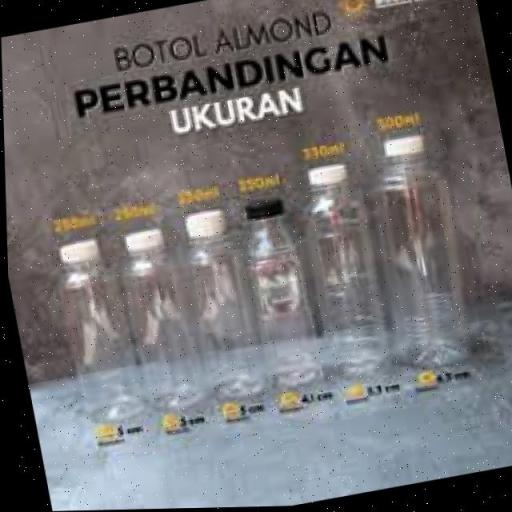plastic: (165, 198, 285, 433), (229, 188, 332, 403)
